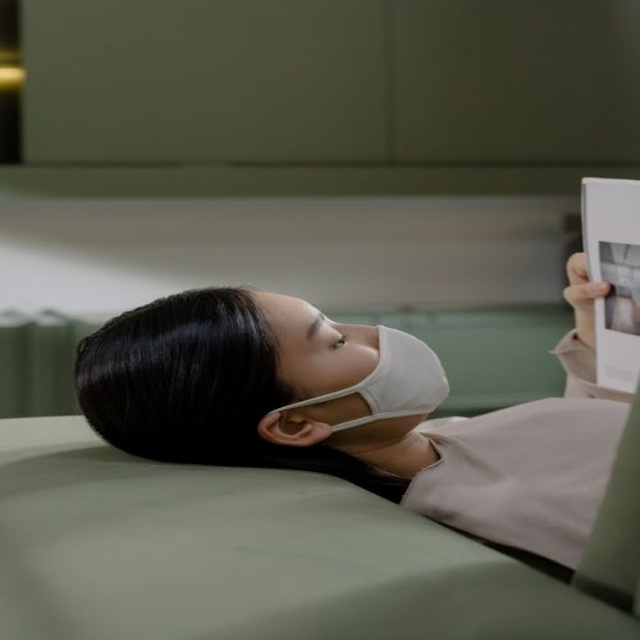Mascara: (267, 323, 449, 436)
Sin_gafas: (297, 300, 357, 375)
